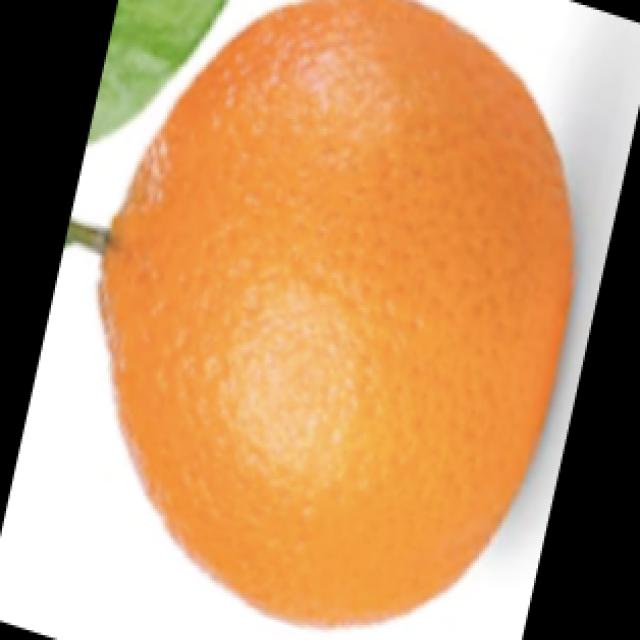fresh: (75, 0, 585, 633)
